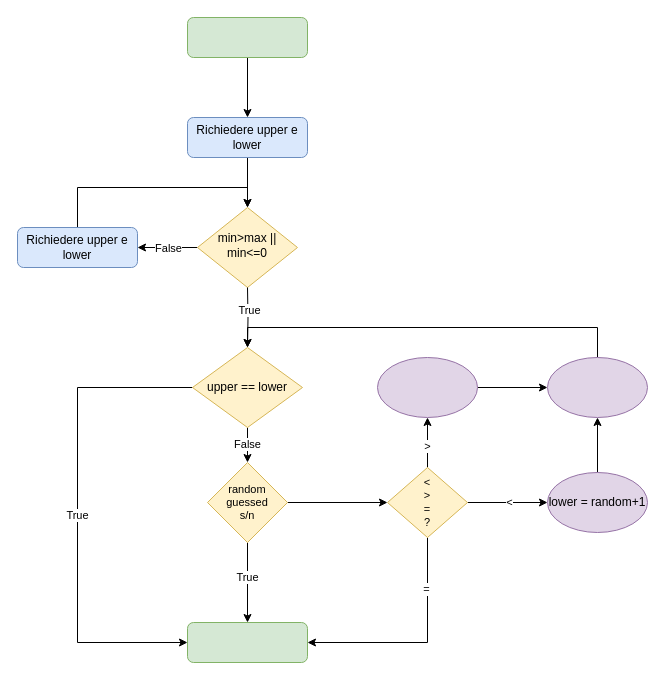
Some shapes in this 665 by 680 pixel diagram are drawn without their labels. The centre of each missing label's shape, as x and y in pixels:
END: [247,642]
random = rand%(upper-lower+1) + lower: [597,387]
START: [247,37]
upper = random-1: [427,387]
